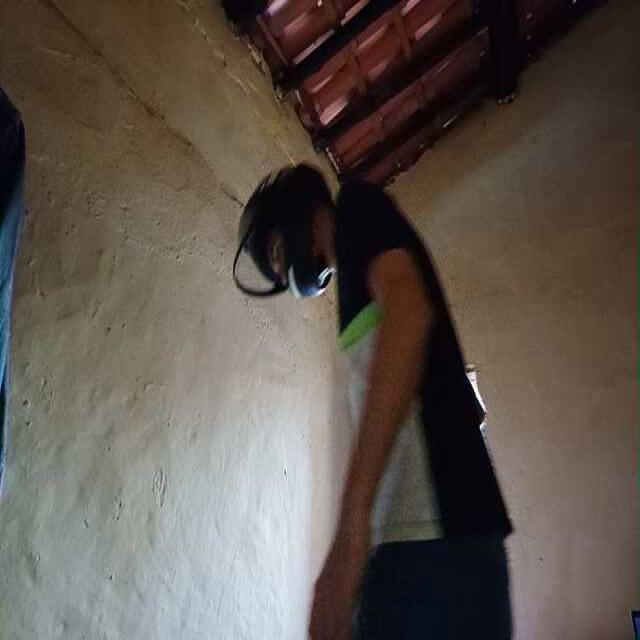capacete: (224, 158, 344, 315)
pessoa: (255, 171, 512, 640)
